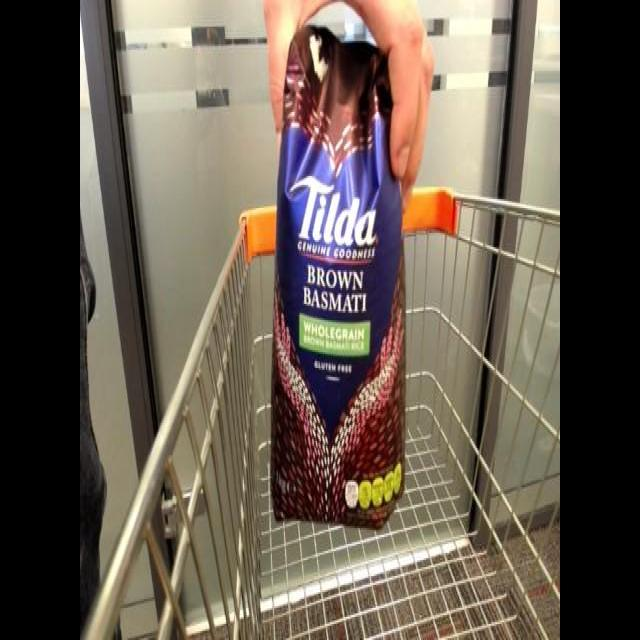Tida: (263, 21, 427, 530)
